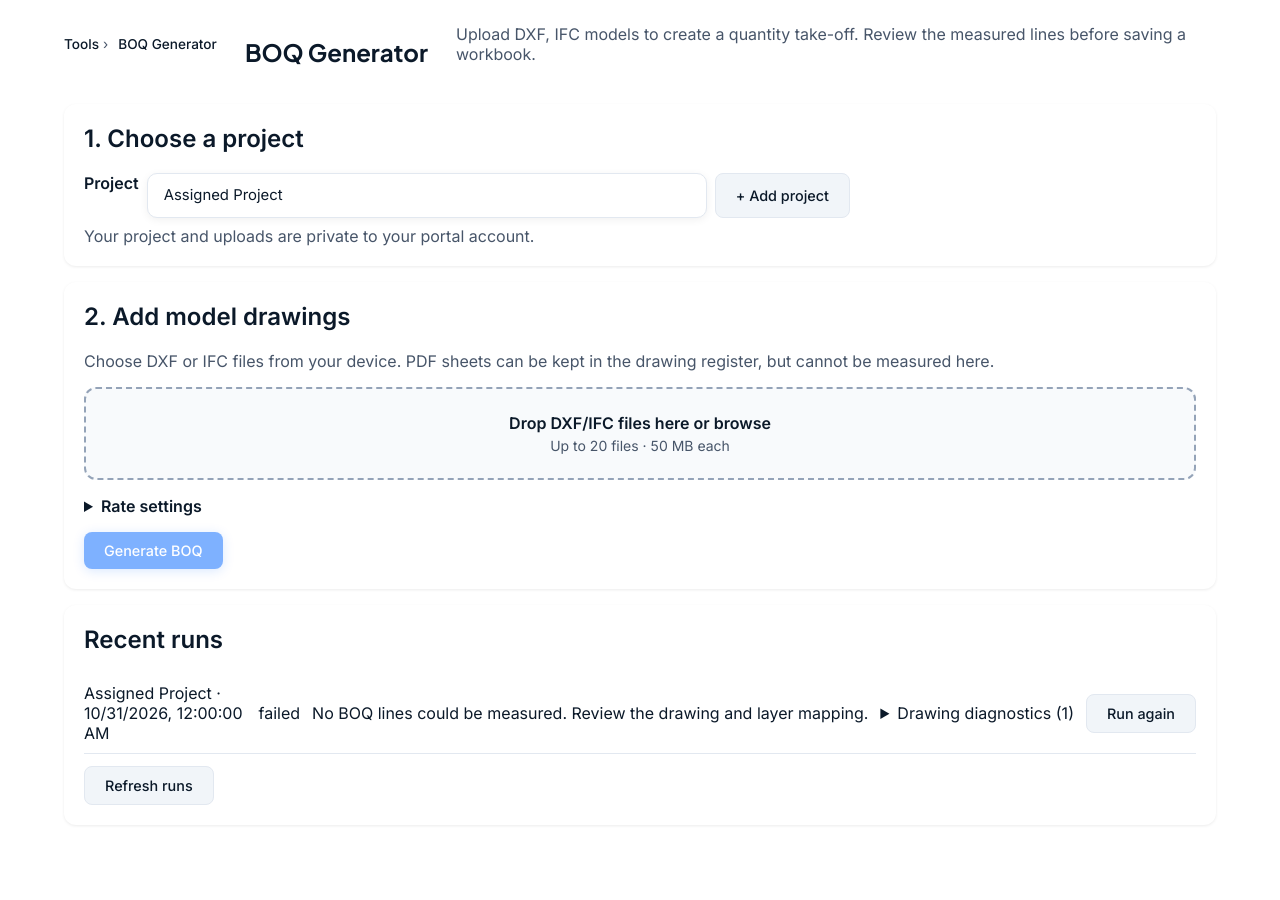
Test case: BOQ Generator user workflow › shows layer diagnostics for failed runs with no measurable BOQ items
Click the heading "Drawing diagnostics (1)".
click(977, 713)  # box top-left (880, 703), bottom-right (1074, 723)
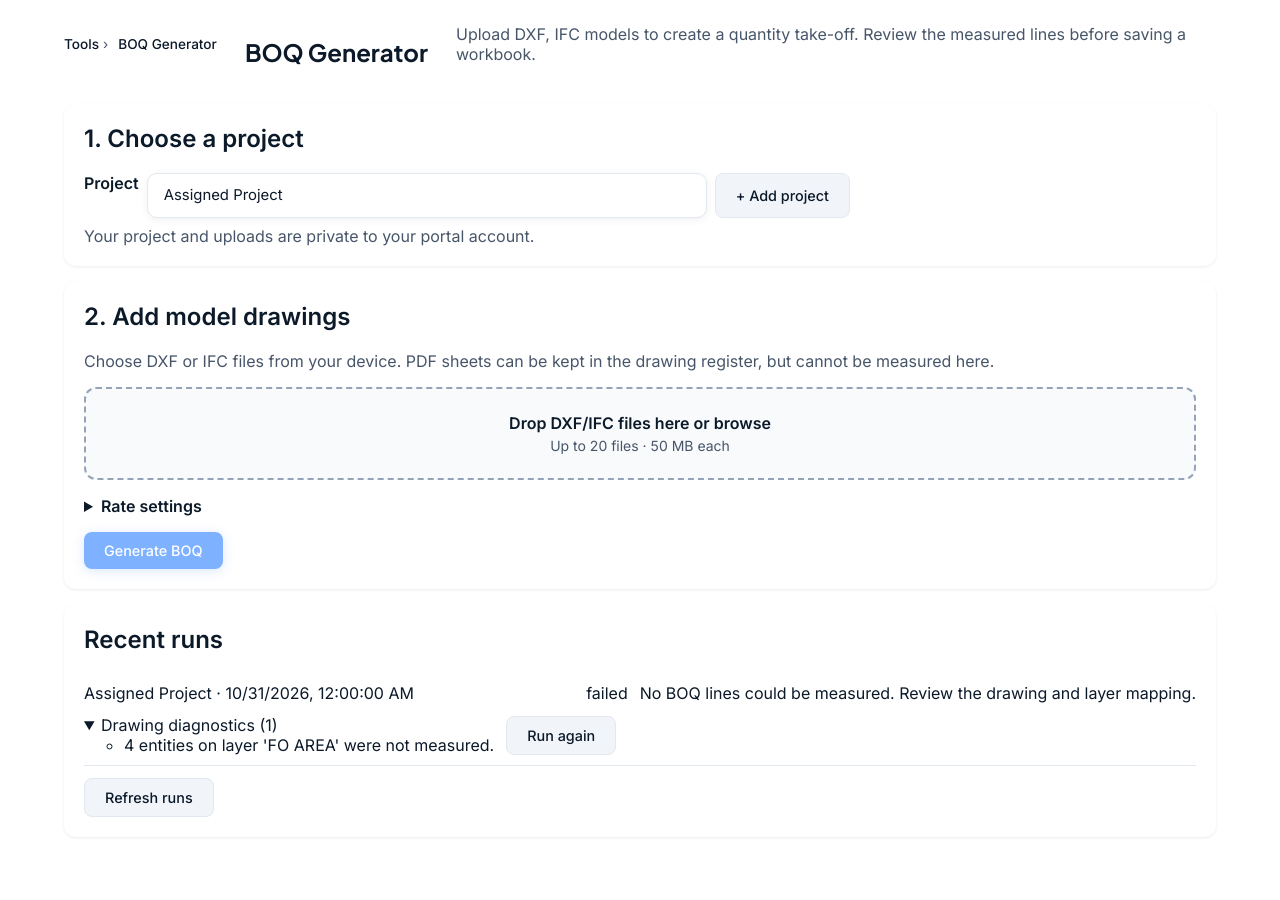
expect the button "Run again" is shown: met, box top-left (506, 716), bottom-right (616, 755)
expect the list item "4 entities on layer 'FO AREA' were not measured." is shown: met, box top-left (124, 735), bottom-right (494, 755)
